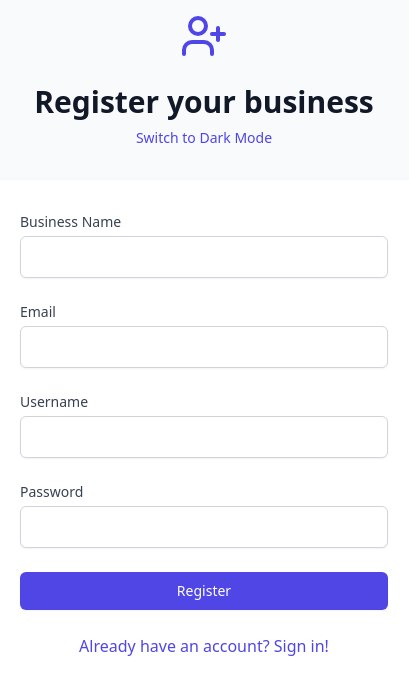
RegisterForm › validates password length
# Fill in the form with short password
Type "Test Business" into the field labelled "Business Name" at (204,257), box [20,236,388,278]
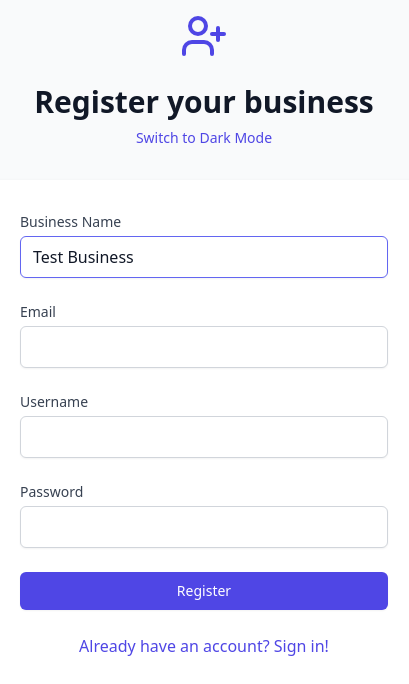
Type "test@example.com" into the field labelled "Email" at (204,347), box [20,326,388,368]
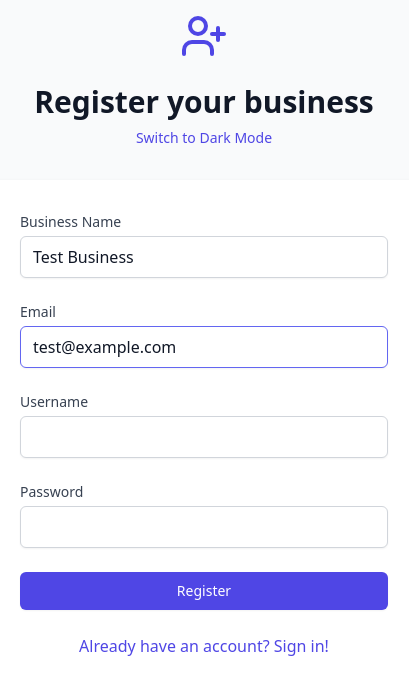
Type "testuser" into the field labelled "Username" at (204,437), box [20,416,388,458]
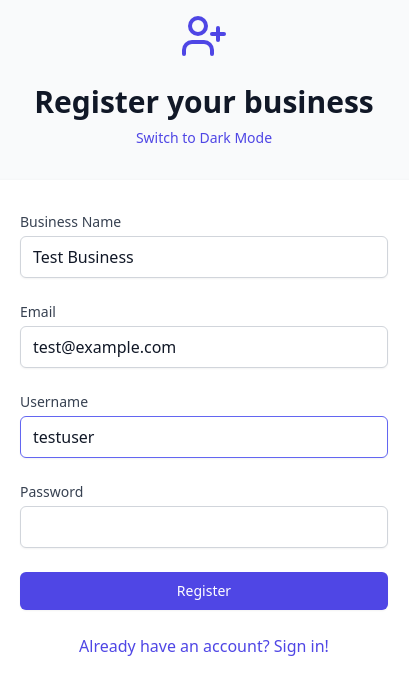
Type "12345" into the password field labelled "Password" at (204,527), box [20,506,388,548]
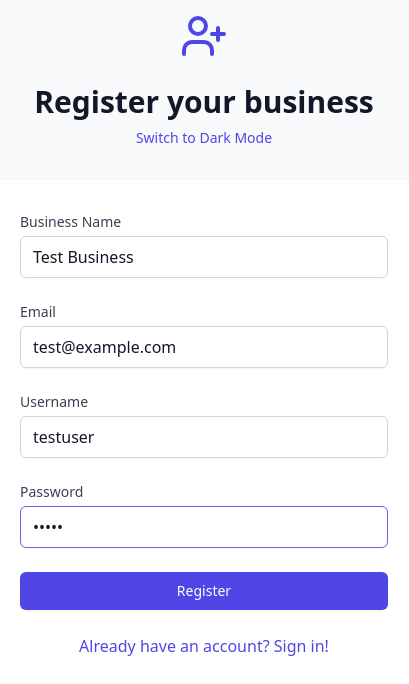
# Submit the form
Click the button "Register" at (204,591), box [20,572,388,610]
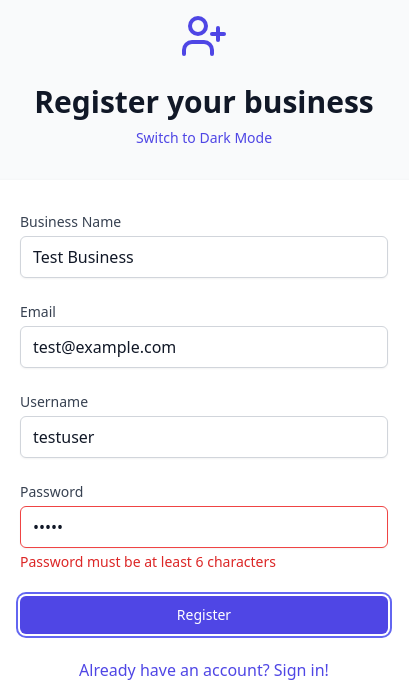
Now the text "Password must be at least 6 characters" is shown, box [20,552,276,571]
